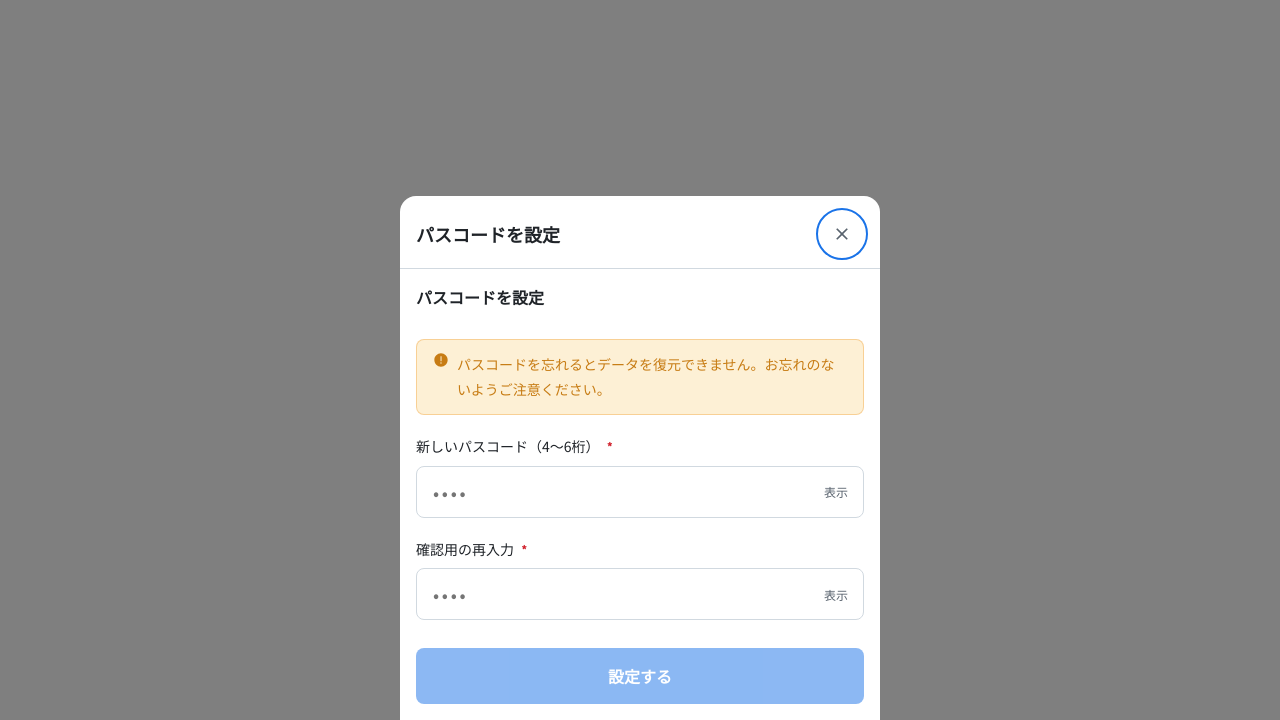
PasscodeSheet Component UI and Interactions › shows error if new passcode and confirm do not match when setting
Type "1234" into the password field labelled "新しいパスコード（4〜6桁） *" at (640, 492), box [416,466,864,518]
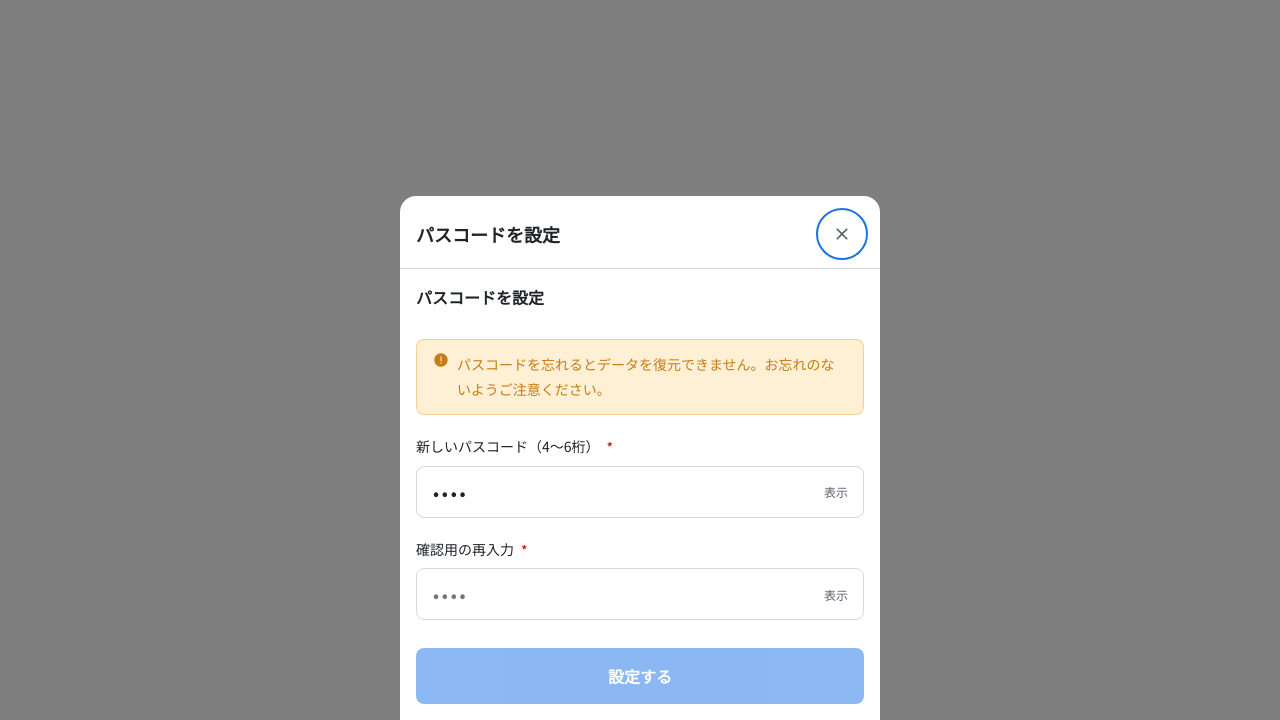
Type "5678" into the password field labelled "確認用の再入力 *" at (640, 594), box [416,568,864,620]
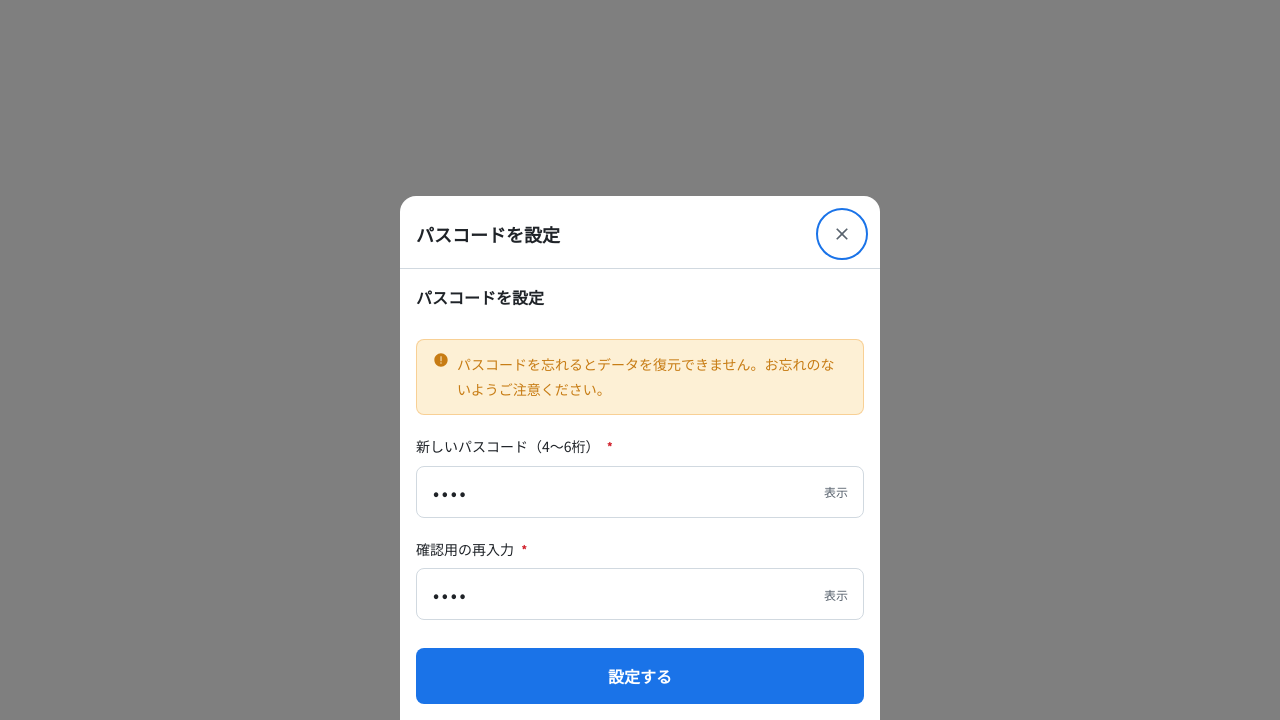
Click the button "設定する" at (640, 676), box [416,648,864,704]
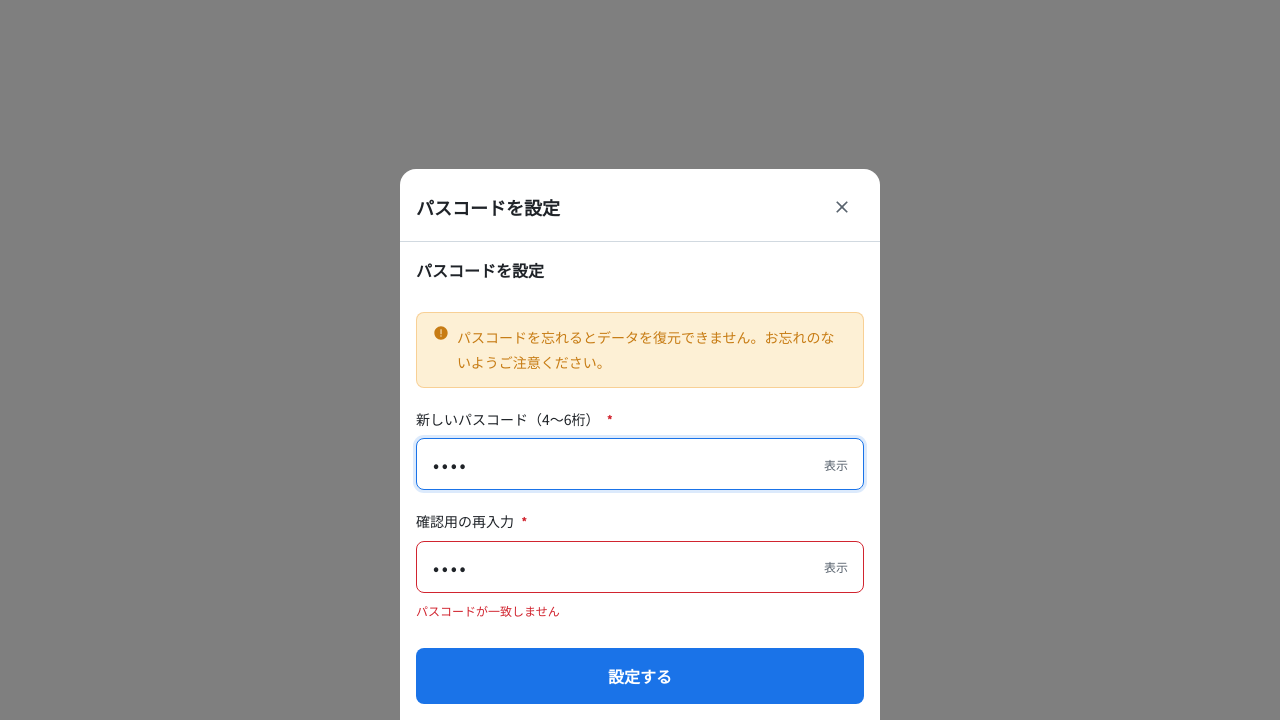
Expected: the text "パスコードが一致しません" is shown, [416,602,560,619]
